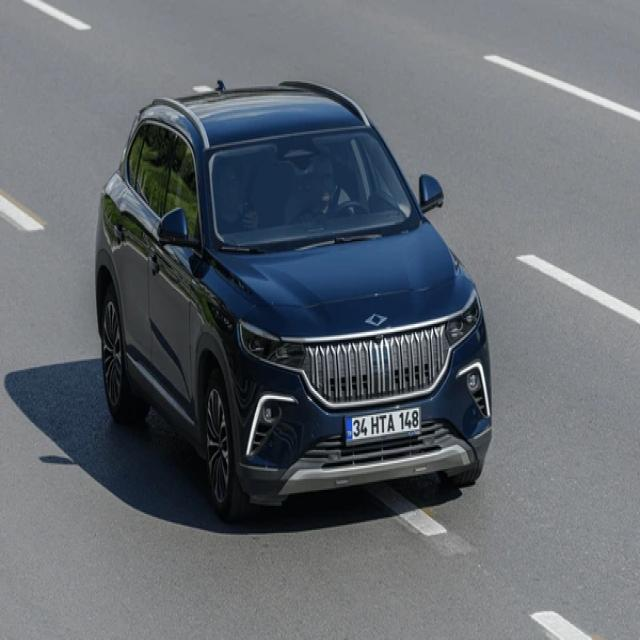togg: (361, 310, 390, 333)
